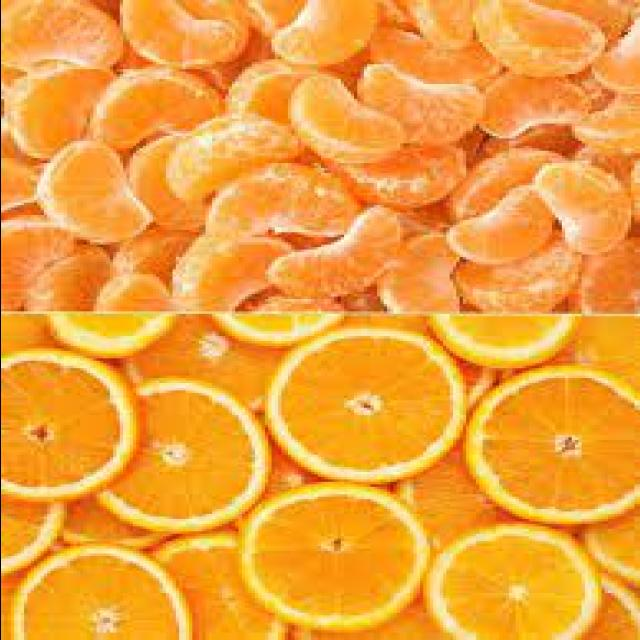orange: (266, 326, 451, 479)
